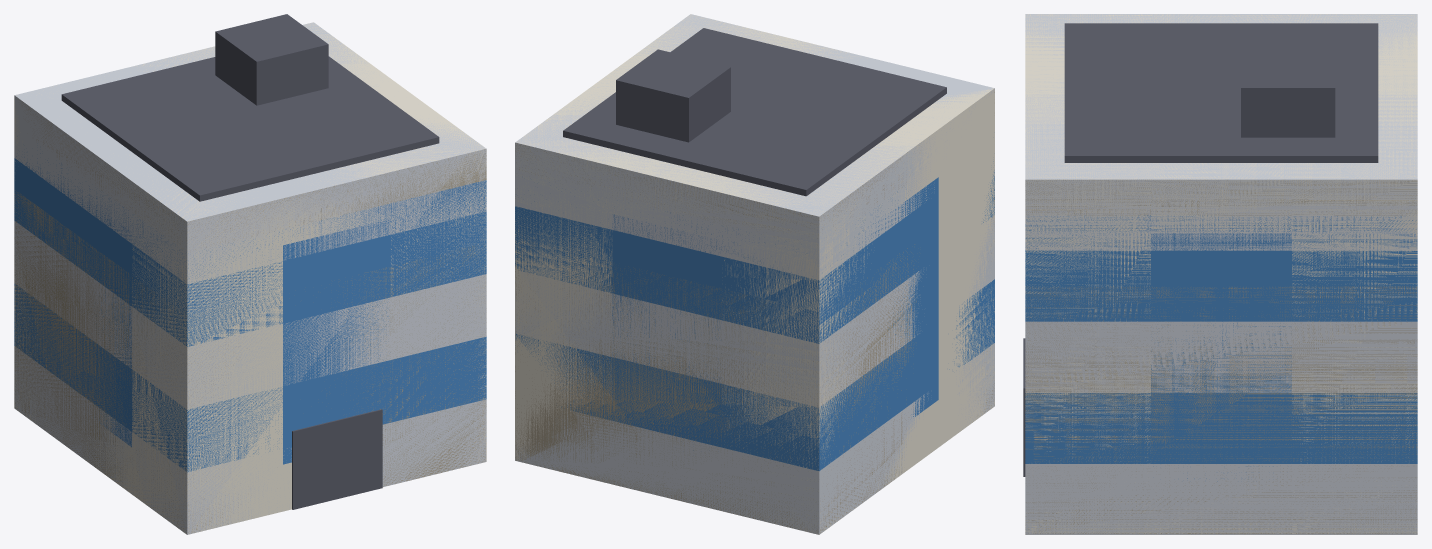
File: Kit_LowBuilding.glb
The picture shows the model from 3 angles, left to right: view 1: azimuth 30°, elevation 25°; view 2: azimuth 150°, elevation 25°; view 3: azimuth 270°, elevation 25°; orthographic projection. The views are drawn at different scales.
Parts seen in each view (by area): view 1: Kit_LowBuilding_A, Kit_LowBuilding_B, Kit_LowBuilding_C; view 2: Kit_LowBuilding_A, Kit_LowBuilding_B, Kit_LowBuilding_C; view 3: Kit_LowBuilding_A, Kit_LowBuilding_B, Kit_LowBuilding_C.
Boxes of the visible parts, <box> form: Kit_LowBuilding_A: <box>14,14,486,534</box>; Kit_LowBuilding_B: <box>14,22,486,534</box>; Kit_LowBuilding_C: <box>14,100,486,533</box>; Kit_LowBuilding_A: <box>515,14,994,534</box>; Kit_LowBuilding_B: <box>515,14,994,534</box>; Kit_LowBuilding_C: <box>515,92,994,534</box>; Kit_LowBuilding_A: <box>1025,14,1417,534</box>; Kit_LowBuilding_B: <box>1025,14,1417,534</box>; Kit_LowBuilding_C: <box>1023,179,1417,533</box>.
Bounding box in the file's own units: 10 × 11.6 × 10.05.
